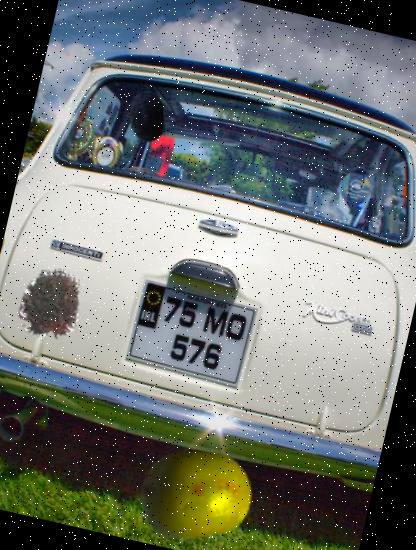Blueberry: (115, 86, 177, 148)
Pomelo: (127, 426, 265, 550)
Rambutan: (3, 255, 100, 352)
